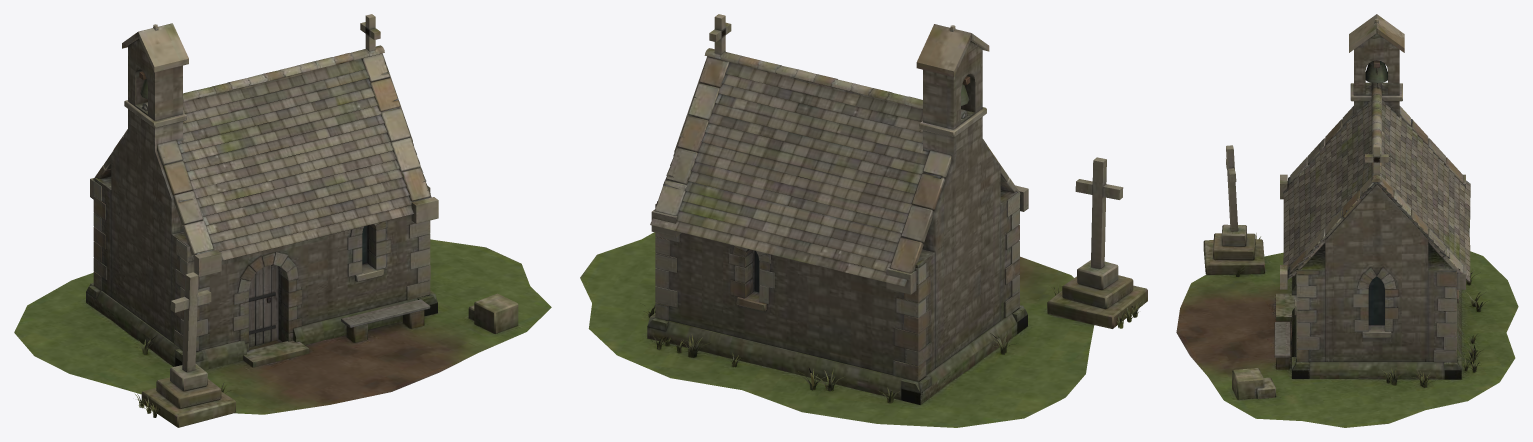
The model's file is chapel.glb.
The picture shows the model from 3 angles, left to right: view 1: azimuth 30°, elevation 25°; view 2: azimuth 150°, elevation 25°; view 3: azimuth 270°, elevation 25°; orthographic projection. The views are drawn at different scales.
Visible parts, largest first — view 1: chapel_LOD0; view 2: chapel_LOD0; view 3: chapel_LOD0.
Part boxes in pixels (x1,y1,x2,y2): chapel_LOD0: (14,14,551,427); chapel_LOD0: (580,14,1147,427); chapel_LOD0: (1176,14,1518,427).
Size of what is drawn, in the model's own units: 11.45 by 7.51 by 8.65.
Materials: 1 (1 with a texture image).
